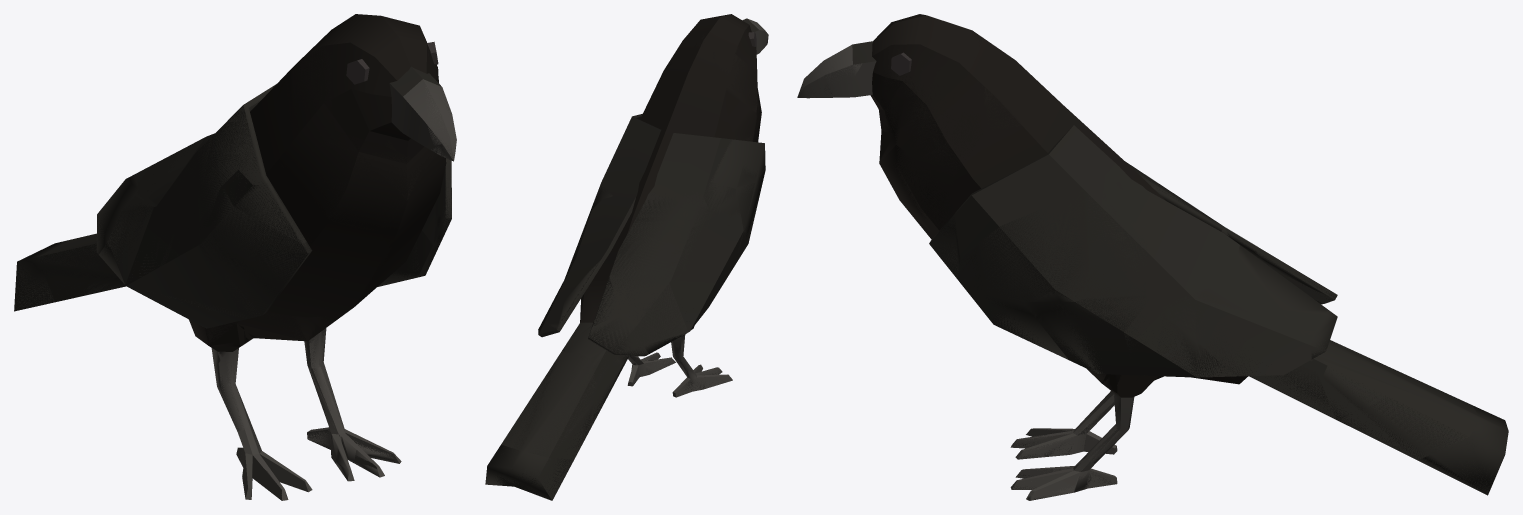
File: banana.glb
3 renders of one model, left to right at view 1: azimuth 30°, elevation 25°; view 2: azimuth 150°, elevation 25°; view 3: azimuth 270°, elevation 25°, orthographic. The views are drawn at different scales.
Visible parts, largest first — view 1: origin, Geo_Raven_cell.049, Geo_Raven_cell.027, Geo_Raven_cell.003, Geo_Raven_cell.073, Geo_Raven_cell.002, Geo_Raven_cell.047, Geo_Raven_cell.019, Geo_Raven_cell.032, Geo_Raven_cell.033, Geo_Raven_cell.089, Geo_Raven_cell.061 (+6 smaller); view 2: origin, Geo_Raven_cell.049, Geo_Raven_cell.019, Geo_Raven_cell.032, Geo_Raven_cell.002, Geo_Raven_cell.047, Geo_Raven_cell.033, Geo_Raven_cell.052, Geo_Raven_cell.073, Geo_Raven_cell.005, Geo_Raven_cell.007, Geo_Raven_cell.075 (+3 smaller); view 3: origin, Geo_Raven_cell.019, Geo_Raven_cell.070, Geo_Raven_cell.032, Geo_Raven_cell.023, Geo_Raven_cell.078, Geo_Raven_cell.005, Geo_Raven_cell.044, Geo_Raven_cell.036, Geo_Raven_cell.085, Geo_Raven_cell.040, Geo_Raven_cell.084 (+5 smaller).
Part boxes in pixels (<box>): origin: <box>14,14,456,500</box>; Geo_Raven_cell.049: <box>97,92,312,317</box>; Geo_Raven_cell.027: <box>309,131,412,234</box>; Geo_Raven_cell.003: <box>223,170,306,243</box>; Geo_Raven_cell.073: <box>198,185,310,315</box>; Geo_Raven_cell.002: <box>99,197,154,284</box>; Geo_Raven_cell.047: <box>289,30,336,154</box>; Geo_Raven_cell.019: <box>38,233,108,298</box>; Geo_Raven_cell.032: <box>15,240,69,309</box>; Geo_Raven_cell.033: <box>96,175,138,254</box>; Geo_Raven_cell.089: <box>278,229,398,308</box>; Geo_Raven_cell.061: <box>214,331,248,430</box>; origin: <box>492,14,768,500</box>; Geo_Raven_cell.049: <box>598,139,765,337</box>; Geo_Raven_cell.019: <box>512,354,597,458</box>; Geo_Raven_cell.032: <box>485,444,573,500</box>; Geo_Raven_cell.002: <box>629,283,687,353</box>; Geo_Raven_cell.047: <box>711,46,758,119</box>; Geo_Raven_cell.033: <box>588,314,648,356</box>; Geo_Raven_cell.052: <box>725,92,756,141</box>; Geo_Raven_cell.073: <box>737,167,765,255</box>; Geo_Raven_cell.005: <box>546,259,602,324</box>; Geo_Raven_cell.007: <box>562,325,604,358</box>; Geo_Raven_cell.075: <box>609,252,675,314</box>; origin: <box>797,14,1493,500</box>; Geo_Raven_cell.019: <box>1319,343,1480,459</box>; Geo_Raven_cell.070: <box>960,192,1089,301</box>; Geo_Raven_cell.032: <box>1418,405,1508,495</box>; Geo_Raven_cell.023: <box>1023,295,1148,373</box>; Geo_Raven_cell.078: <box>879,132,956,232</box>; Geo_Raven_cell.005: <box>1237,245,1327,338</box>; Geo_Raven_cell.044: <box>1084,182,1147,296</box>; Geo_Raven_cell.036: <box>897,58,984,177</box>; Geo_Raven_cell.085: <box>986,293,1068,359</box>; Geo_Raven_cell.040: <box>1161,287,1268,376</box>; Geo_Raven_cell.084: <box>1232,257,1289,319</box>.
Size of the model in its own units: 23.03 by 51.87 by 73.12.
Materials: 1 (1 with a texture image).
